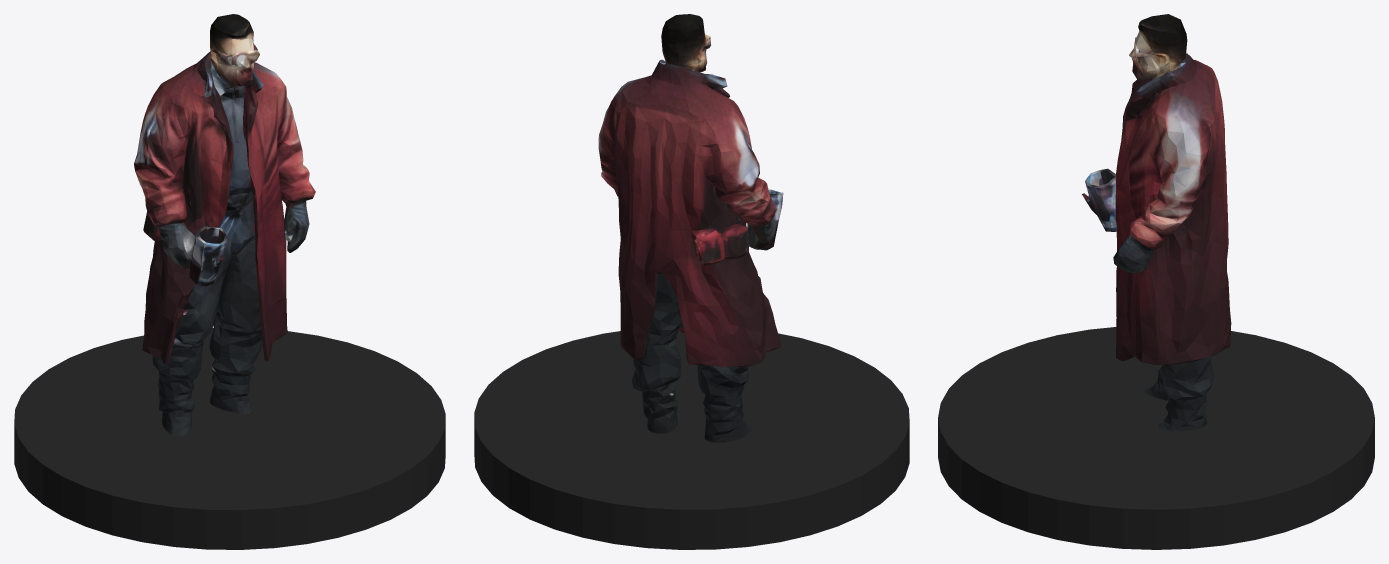
The model's file is edward-white.glb.
3 renders of one model, left to right at view 1: azimuth 30°, elevation 25°; view 2: azimuth 150°, elevation 25°; view 3: azimuth 270°, elevation 25°, orthographic.
Parts seen in each view (by area): view 1: base, figure; view 2: base, figure; view 3: base, figure.
Part boxes in pixels (x1,y1,x2,y2): base: (14, 328, 445, 549); figure: (134, 14, 315, 436); base: (474, 330, 909, 549); figure: (598, 14, 783, 442); base: (938, 327, 1374, 549); figure: (1082, 14, 1231, 431).
Size of the model in its own units: 1.18 by 1.32 by 1.18.
Materials: 2 (1 with a texture image).
